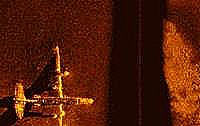aircraft: (12, 45, 96, 125)
